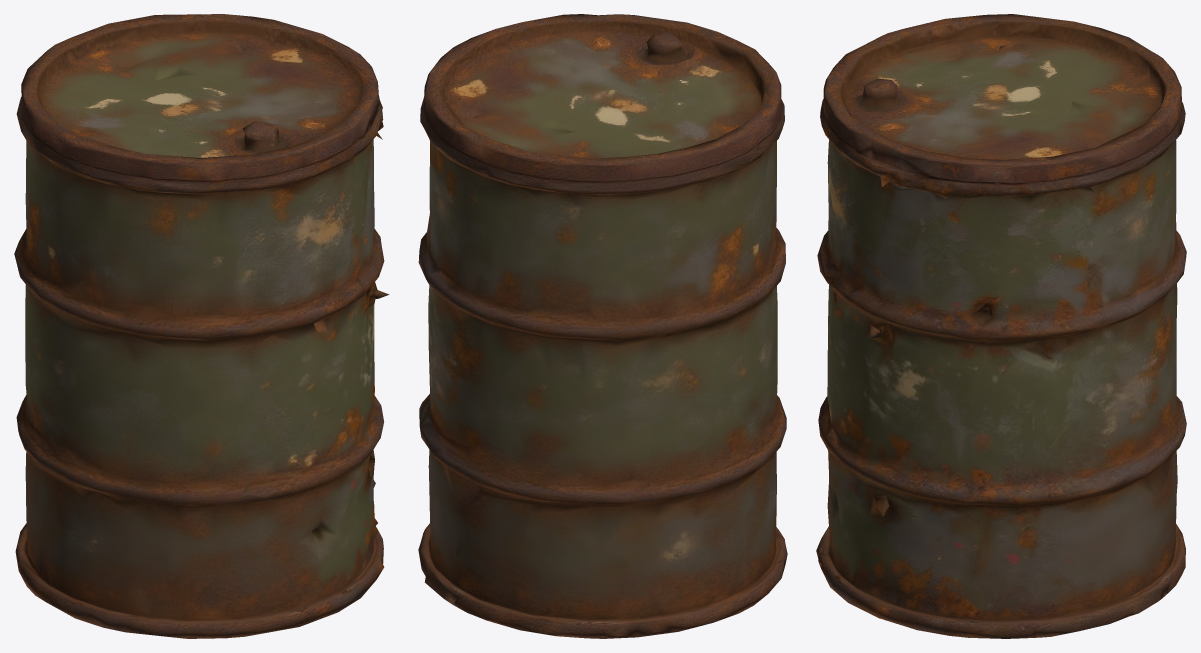
Rendered from oil_drum.raw.glb.
3 views of the same model, side by side, from view 1: azimuth 30°, elevation 25°; view 2: azimuth 150°, elevation 25°; view 3: azimuth 270°, elevation 25° (orthographic).
Parts seen in each view (by area): view 1: tripo_node_bcdaff9d-923a-4ef9-a1cc-c6f8a9605504; view 2: tripo_node_bcdaff9d-923a-4ef9-a1cc-c6f8a9605504; view 3: tripo_node_bcdaff9d-923a-4ef9-a1cc-c6f8a9605504.
Part boxes in pixels (box(x1,y1,x2,y2)): tripo_node_bcdaff9d-923a-4ef9-a1cc-c6f8a9605504: box(14, 14, 389, 638); tripo_node_bcdaff9d-923a-4ef9-a1cc-c6f8a9605504: box(418, 14, 787, 638); tripo_node_bcdaff9d-923a-4ef9-a1cc-c6f8a9605504: box(816, 14, 1186, 638).
Size of the model in its own units: 0.6966 by 1 by 0.6972.
Materials: 1 (1 with a texture image).
